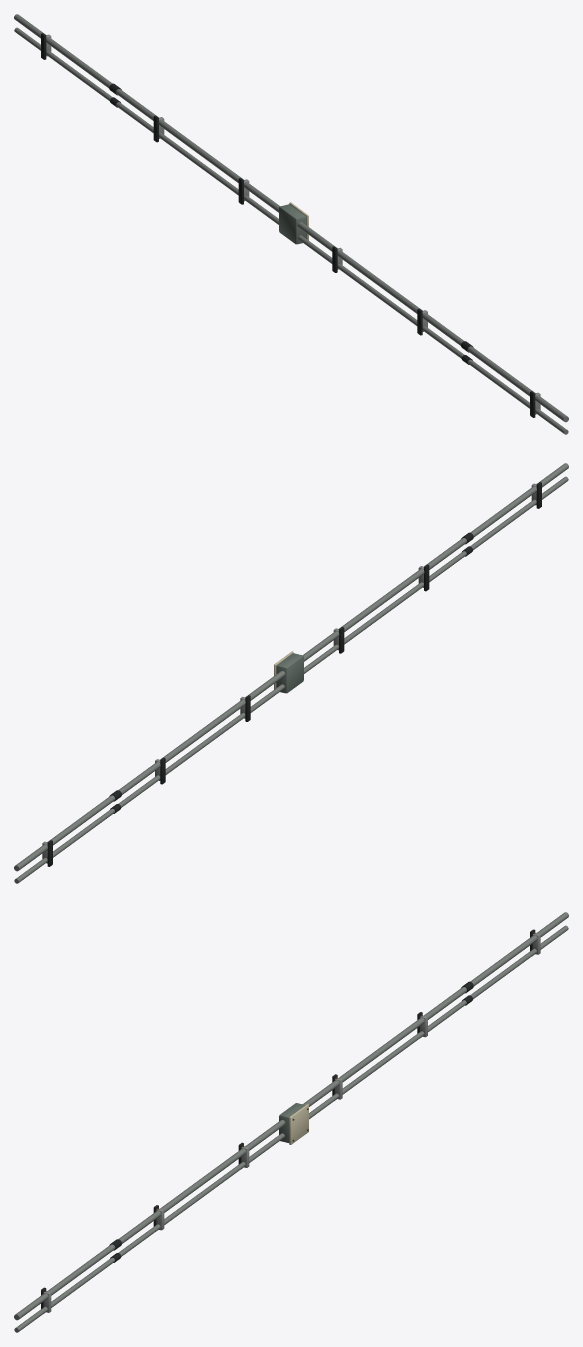
Rendered from CTCC_ENV_ConduitRun.fbx.
The picture shows the model from 3 angles, top to bottom: view 1: azimuth 30°, elevation 25°; view 2: azimuth 150°, elevation 25°; view 3: azimuth 330°, elevation 25°; orthographic projection.
Parts seen in each view (by area): view 1: CTCC_ENV_ConduitRun_LOD0; view 2: CTCC_ENV_ConduitRun_LOD0; view 3: CTCC_ENV_ConduitRun_LOD0.
Boxes of the visible parts, left/top/right/bottom form: CTCC_ENV_ConduitRun_LOD0: left=14, top=14, right=568, bottom=434; CTCC_ENV_ConduitRun_LOD0: left=14, top=463, right=568, bottom=883; CTCC_ENV_ConduitRun_LOD0: left=14, top=912, right=568, bottom=1332.
Size of what is drawn, in the model's own units: 0.059 by 0.112 by 4.
